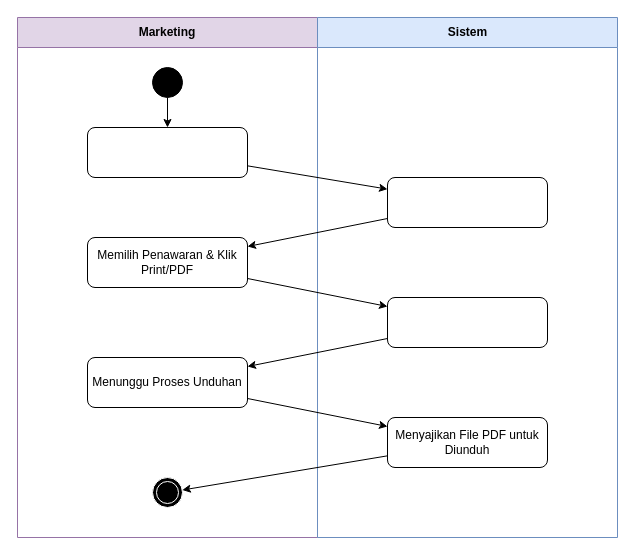
The diagram is 635 pixels wide and 555 high, and some of its shapes have lost their labels. The centre of each missing label's shape, as x and y in pixels:
"Generate PDF dengan Tanda Tangan" goes at (x=467, y=322).
"Memilih Menu Penawaran (Quotes)" goes at (x=167, y=152).
"Menampilkan Daftar Penawaran" goes at (x=467, y=202).
